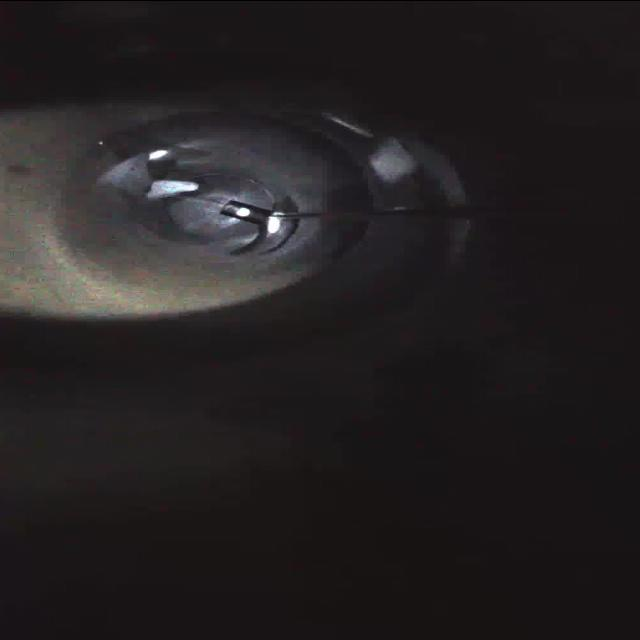impurity: (138, 176, 202, 200)
